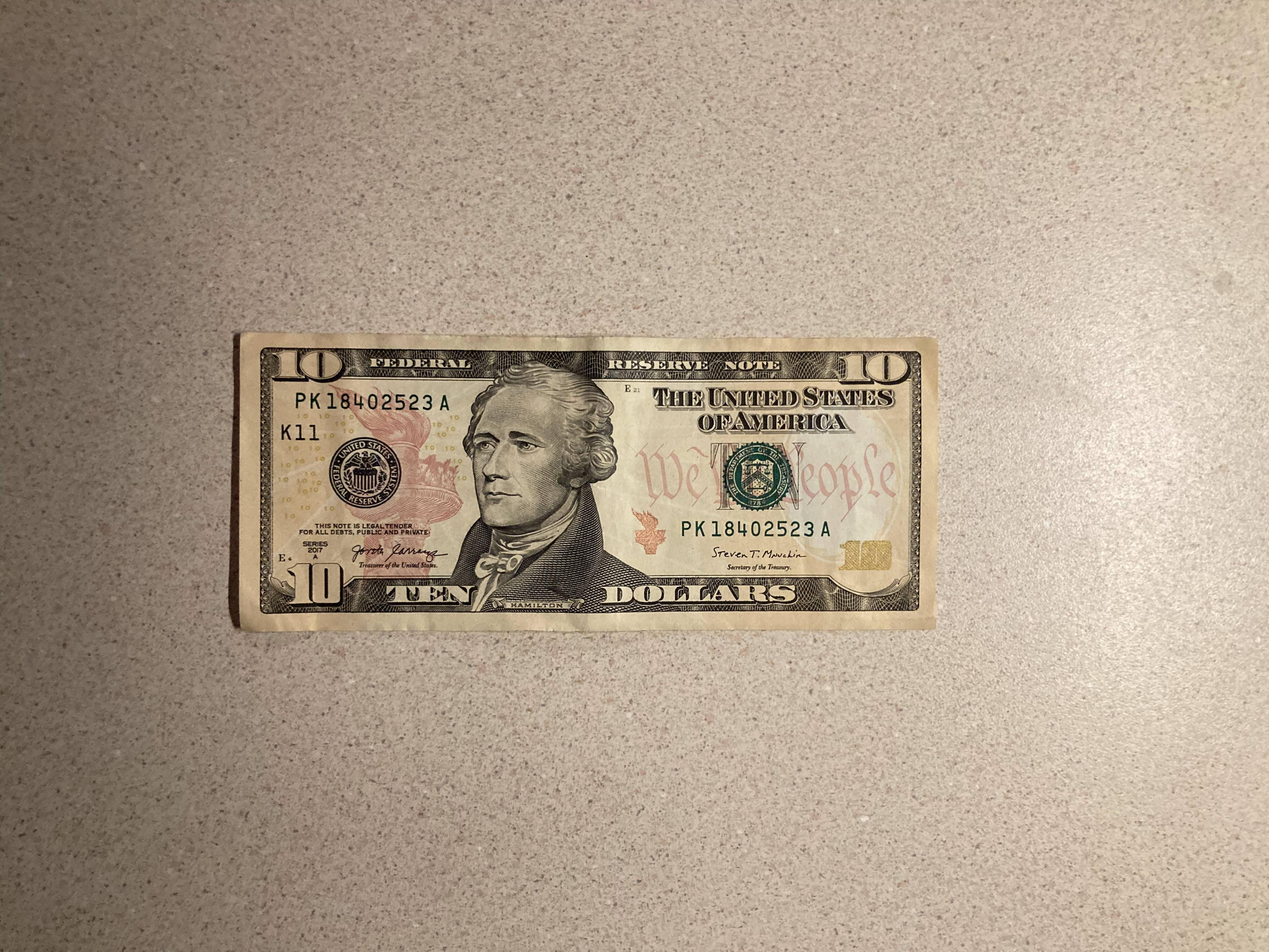ten-front: (234, 333, 943, 638)
